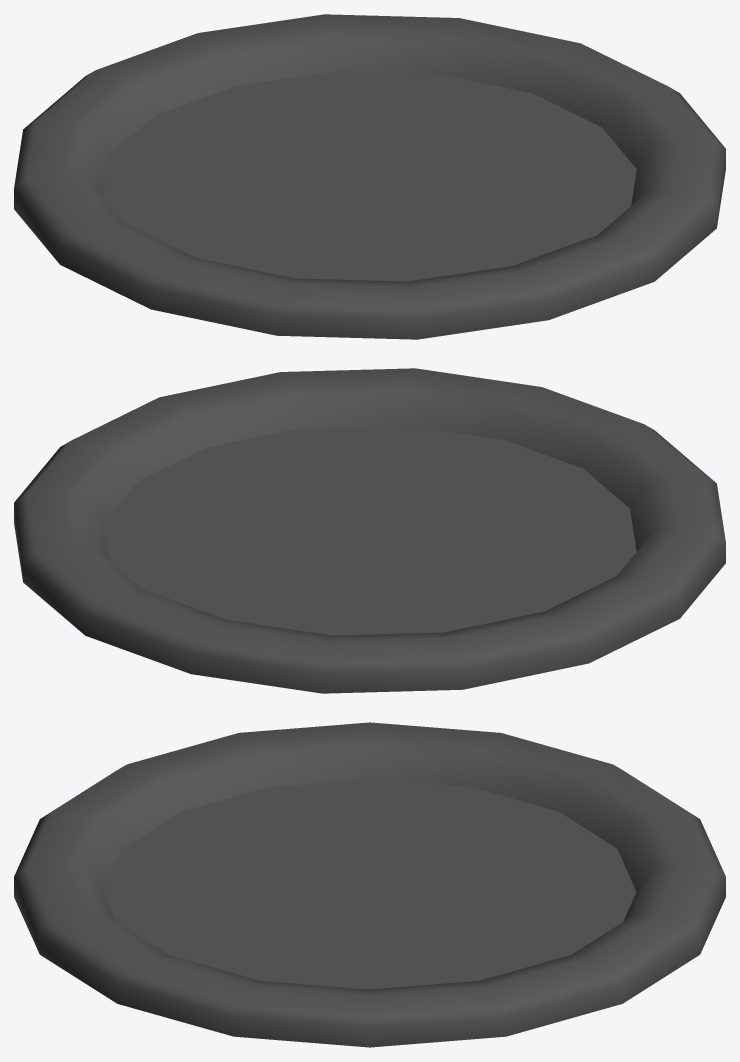
Rendered from obstacle_8_001.fbx.
The picture shows the model from 3 angles, top to bottom: view 1: azimuth 30°, elevation 25°; view 2: azimuth 150°, elevation 25°; view 3: azimuth 270°, elevation 25°; orthographic projection.
Visible parts, largest first — view 1: obstacle_8_001; view 2: obstacle_8_001; view 3: obstacle_8_001.
Boxes of the visible parts, x1,y1,x2,y2 form: obstacle_8_001: [14, 14, 725, 339]; obstacle_8_001: [14, 368, 725, 693]; obstacle_8_001: [14, 722, 725, 1047].
Size of the model in its own units: 583 by 583 by 27.94.
